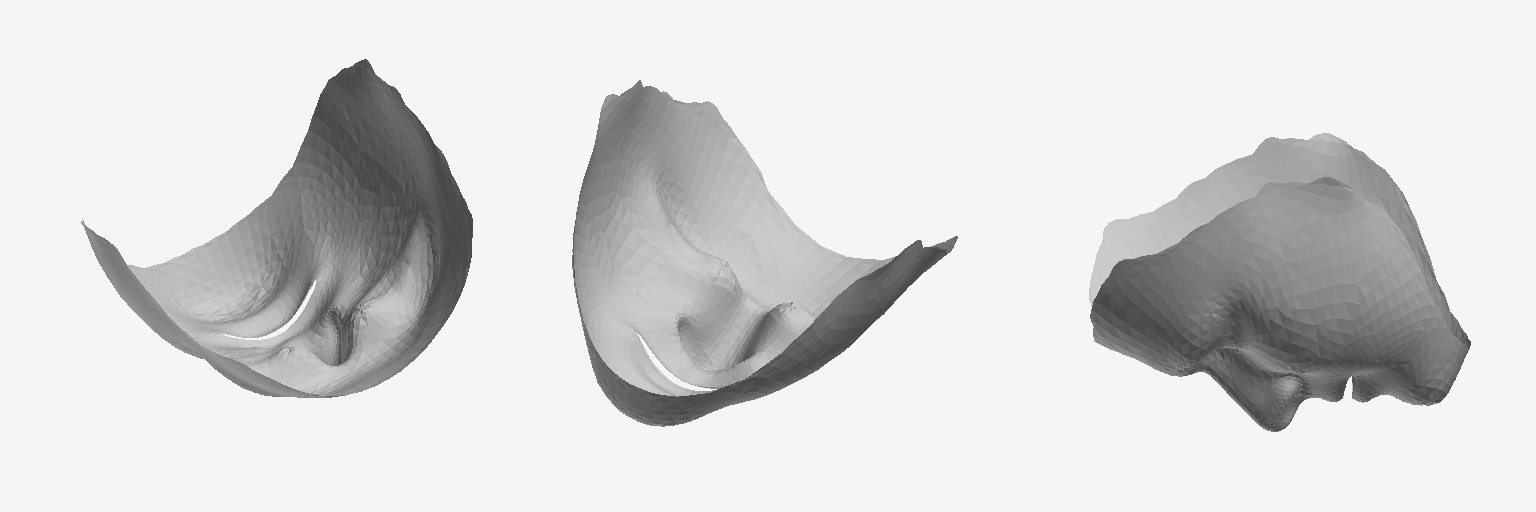
Rendered from face_gab_sfm5.obj.
3 renders of one model, left to right at view 1: azimuth 30°, elevation 25°; view 2: azimuth 150°, elevation 25°; view 3: azimuth 270°, elevation 25°, orthographic.
Size of the model in its own units: 162 by 151 by 180.